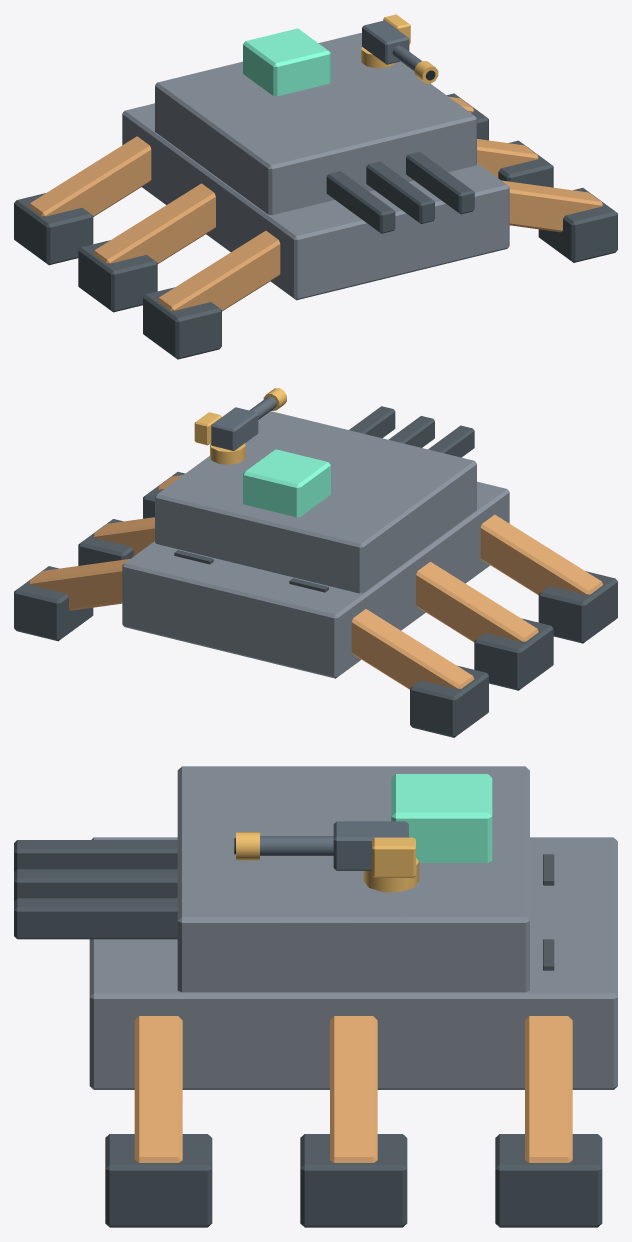
File: boss-walker.glb
The picture shows the model from 3 angles, top to bottom: view 1: azimuth 30°, elevation 25°; view 2: azimuth 150°, elevation 25°; view 3: azimuth 270°, elevation 25°; orthographic projection. The views are drawn at different scales.
Visible parts, largest first — view 1: Carapace, Chassis, Cannon, Strut, Strut.004, Strut.002, Core, Foot, Foot.002, Foot.004, Strut.001, Foot.001 (+4 smaller); view 2: Carapace, Chassis, Strut.004, Strut, Strut.002, Core, Foot.004, Foot, Foot.002, Strut.005, Foot.005, Cannon (+5 smaller); view 3: Carapace, Chassis, Cannon, Foot.003, Foot.001, Foot.005, Core, Strut.001, Strut.003, Strut.005, Auxiliary receiver, Auxiliary swivel (+1 smaller).
Part boxes in pixels (x1,y1,x2,y2): Carapace: (155,33,476,215); Chassis: (122,103,509,300); Cannon: (326,151,474,233); Strut: (157,230,280,311); Strut.004: (29,136,151,216); Strut.002: (93,183,215,263); Core: (243,28,330,96); Foot: (143,287,221,359); Foot.002: (78,240,157,312); Foot.004: (14,193,93,265); Strut.001: (501,180,602,232); Foot.001: (538,187,617,262); Carapace: (155,411,476,593); Chassis: (122,481,509,678); Strut.004: (351,609,474,689); Strut: (480,514,602,595); Strut.002: (416,561,538,642); Core: (243,449,330,517); Foot.004: (410,665,488,737); Foot: (538,571,617,643); Foot.002: (474,618,553,690); Strut.005: (28,559,129,610); Foot.005: (14,566,93,641); Cannon: (349,406,474,457); Carapace: (177,766,529,992); Chassis: (89,837,617,1089); Cannon: (14,840,177,939); Foot.003: (300,1134,407,1227); Foot.001: (105,1134,212,1227); Foot.005: (495,1134,602,1227); Core: (391,774,492,862); Strut.001: (134,1016,182,1162); Strut.003: (330,1016,377,1162); Strut.005: (525,1016,572,1162); Auxiliary receiver: (260,821,408,870); Auxiliary swivel: (236,832,419,892).
Size of the model in its own units: 6.15 by 2.57 by 4.8.
